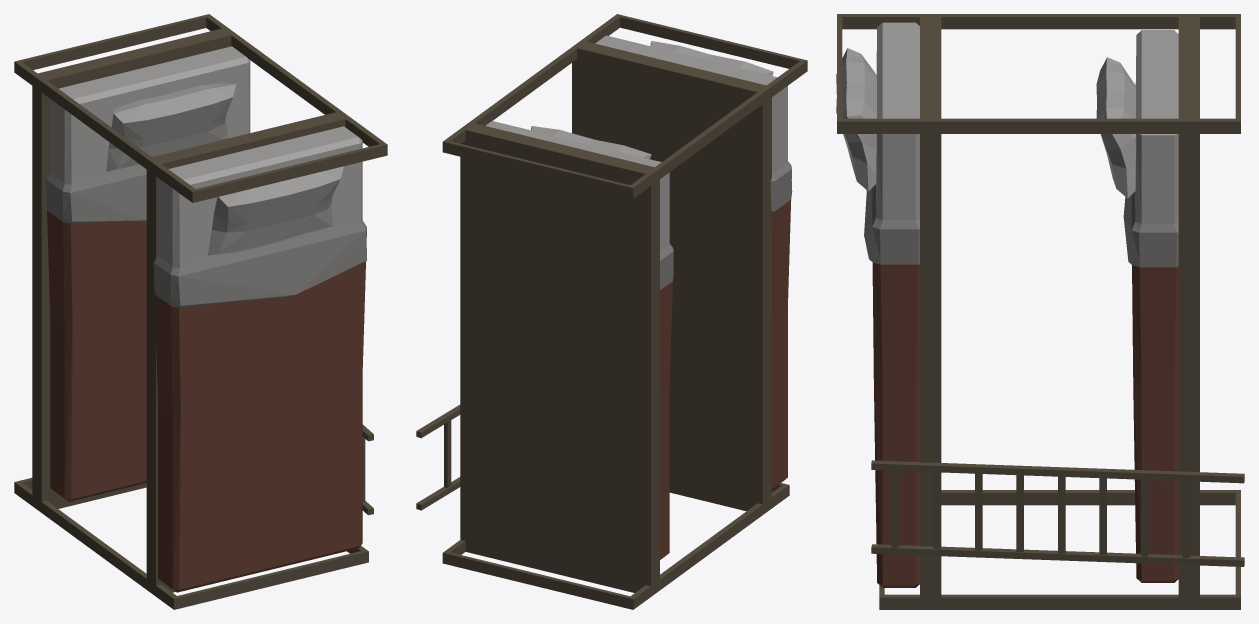
The model's file is bed-bunk.obj.
3 views of the same model, side by side, from view 1: azimuth 30°, elevation 25°; view 2: azimuth 150°, elevation 25°; view 3: azimuth 270°, elevation 25° (orthographic). The views are drawn at different scales.
Visible parts, largest first — view 1: bed-bunk; view 2: bed-bunk; view 3: bed-bunk.
Part boxes in pixels (x1,y1,x2,y2): bed-bunk: [14, 14, 387, 609]; bed-bunk: [416, 14, 807, 609]; bed-bunk: [836, 14, 1244, 609].
Size of the model in its own units: 44 by 81.1 by 61.49.
